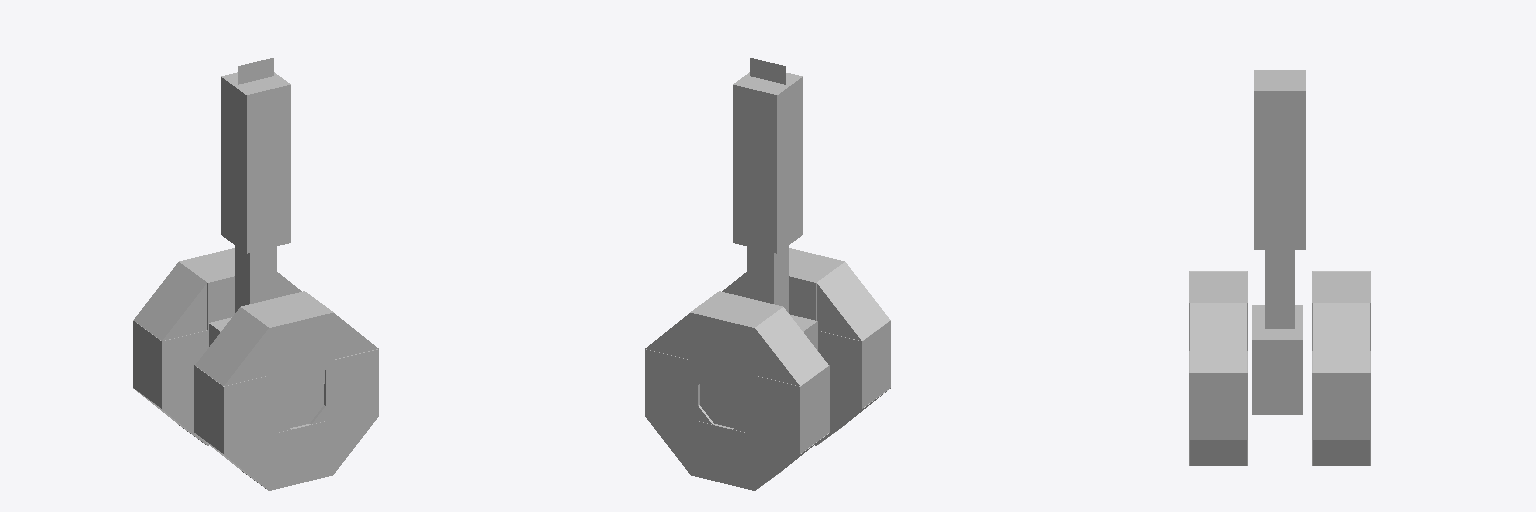
Rendered from oleo_wheel.obj.
3 views of the same model, side by side, from view 1: azimuth 30°, elevation 25°; view 2: azimuth 150°, elevation 25°; view 3: azimuth 270°, elevation 25° (orthographic).
Visible parts, largest first — view 1: cube1, Gear13, Gear11, Gear3, Gear12, Gear2, Gear15, Gear17, Gear1, cube3, cube18, Gear14 (+4 smaller); view 2: cube1, Gear3, Gear1, Gear13, Gear2, Gear12, Gear5, Gear7, Gear11, cube3, cube9, Gear4 (+4 smaller); view 3: cube1, cube4, Gear7, Gear17, Gear8, Gear10, cube3, Gear11, Gear1, Gear6, Gear16.
Boxes of the visible parts, box(x1,y1,x2,y2) form: cube1: box(221, 72, 290, 253); Gear13: box(194, 365, 276, 453); Gear11: box(241, 291, 333, 383); Gear3: box(133, 320, 208, 408); Gear12: box(195, 307, 289, 395); Gear2: box(134, 262, 206, 340); Gear15: box(242, 419, 333, 490); Gear17: box(324, 349, 378, 427); Gear1: box(179, 248, 234, 337); cube3: box(235, 246, 276, 312); cube18: box(277, 374, 323, 427); Gear14: box(195, 419, 290, 490); cube1: box(733, 72, 802, 253); Gear3: box(747, 365, 829, 453); Gear1: box(690, 291, 782, 383); Gear13: box(818, 320, 890, 408); Gear2: box(734, 307, 828, 395); Gear12: box(817, 262, 889, 340); Gear5: box(690, 419, 781, 490); Gear7: box(645, 349, 699, 427); Gear11: box(789, 248, 844, 320); cube3: box(747, 246, 788, 312); cube9: box(700, 374, 746, 427); Gear4: box(733, 419, 828, 490); cube1: box(1254, 70, 1305, 249); cube4: box(1252, 305, 1302, 414); Gear7: box(1312, 351, 1370, 439); Gear17: box(1189, 351, 1247, 439); Gear8: box(1313, 303, 1369, 372); Gear10: box(1190, 303, 1246, 372); cube3: box(1265, 250, 1294, 328); Gear11: box(1189, 271, 1247, 350); Gear1: box(1312, 271, 1370, 350); Gear6: box(1313, 440, 1369, 465); Gear16: box(1190, 440, 1246, 465).
Bounding box in the file's own units: 1.09 × 2.6 × 1.11.